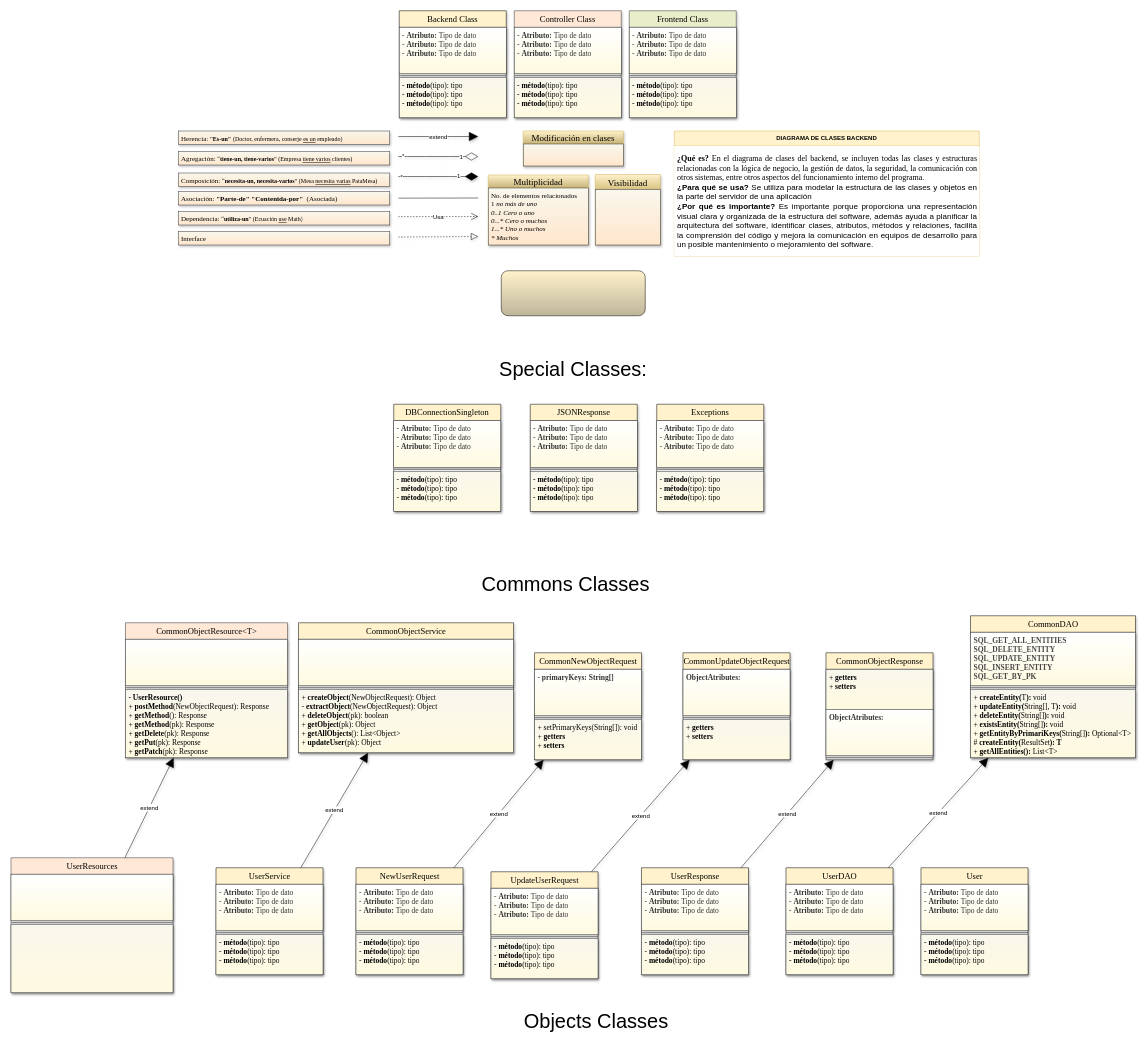
Image size: 1147x1062. Some labels were removed from this diagram. The centre of each missing label's shape, as x and y in pixels:
"- ObjectDAO: objectDAO - objectUpdater: objectUpdater" belongs at pixel 406 663.
"- privado + público # protegido ~ paquete/ por defecto" belongs at pixel 628 217.
"<<Interfaz>> = interfaz Super Clase = clase abstracta" belongs at pixel 573 156.
"ROGEX Class Diagram" belongs at pixel 573 293.
